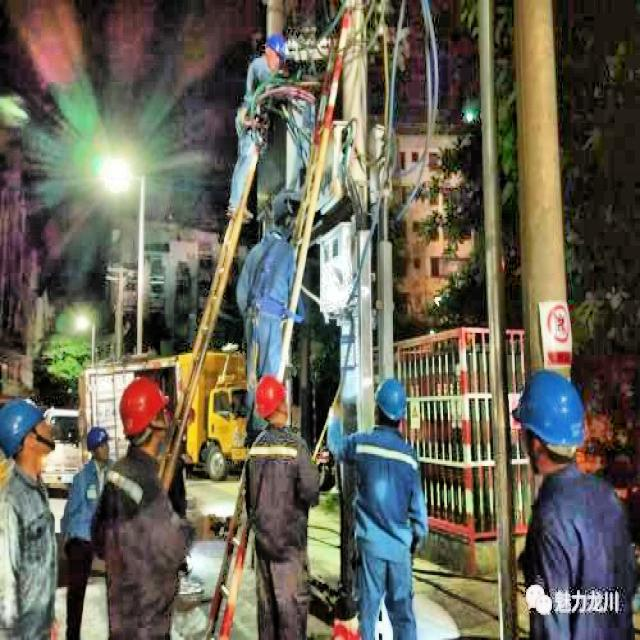helmet: (510, 364, 588, 476), (1, 396, 62, 469), (116, 376, 170, 450), (372, 374, 414, 433), (252, 376, 288, 428), (87, 423, 114, 466), (262, 32, 290, 70)
